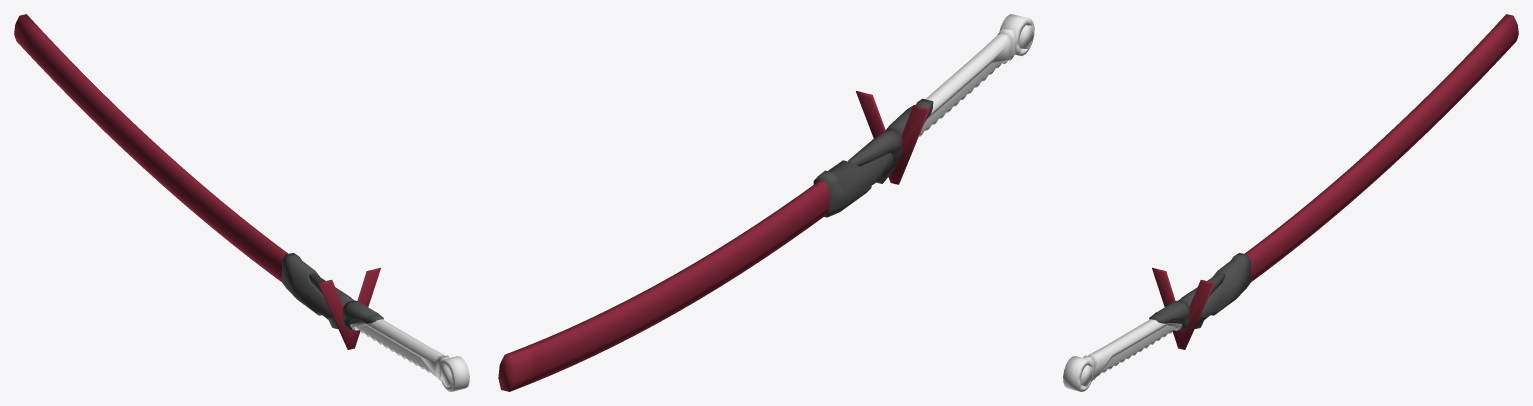
The model's file is vKatana.fbx.
The picture shows the model from 3 angles, left to right: view 1: azimuth 30°, elevation 25°; view 2: azimuth 150°, elevation 25°; view 3: azimuth 330°, elevation 25°; orthographic projection. The views are drawn at different scales.
Visible parts, largest first — view 1: vKanata_Holder, vKanata; view 2: vKanata_Holder, vKanata; view 3: vKanata_Holder, vKanata.
Part boxes in pixels (x1,y1,x2,y2): vKanata_Holder: (14, 14, 337, 328); vKanata: (309, 268, 469, 391); vKanata_Holder: (498, 153, 894, 391); vKanata: (848, 14, 1034, 184); vKanata_Holder: (1195, 14, 1518, 328); vKanata: (1063, 268, 1223, 391).
Bounding box in the file's own units: 0.0826 × 0.1184 × 1.01.
